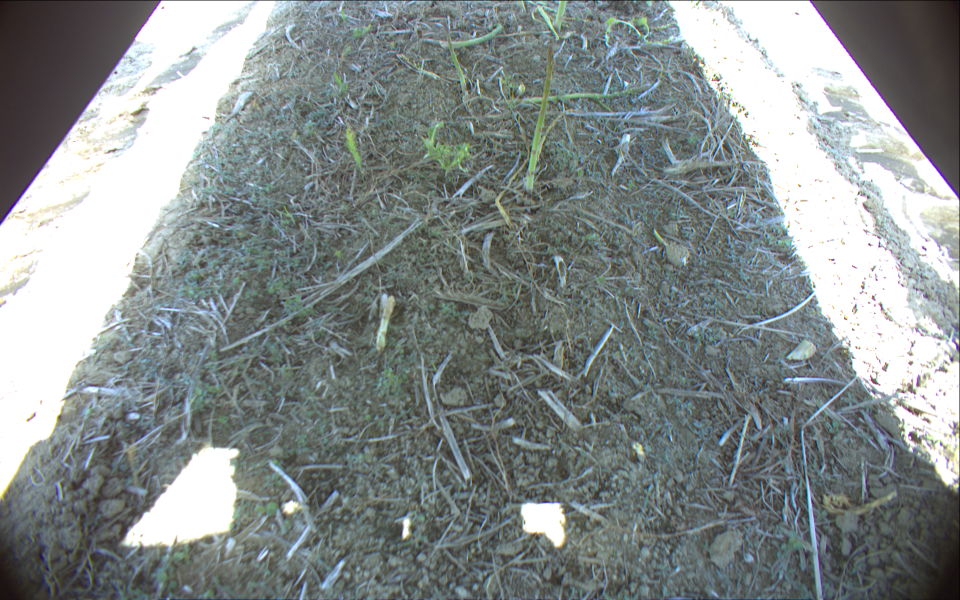aspa: (526, 44, 554, 193), (505, 84, 652, 109), (440, 22, 470, 104), (536, 109, 579, 161), (421, 23, 504, 47), (398, 55, 442, 81), (536, 5, 557, 42), (553, 1, 566, 32)
